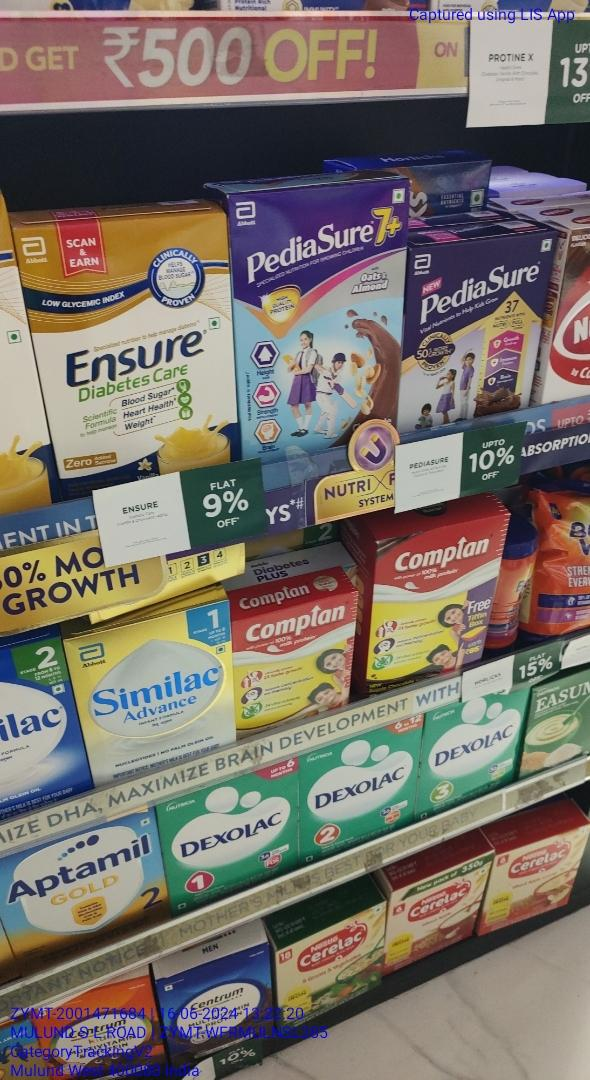COMPLAN_KESAR_BADAM_200_GMS_PACK: (234, 611, 354, 742)
PEDIASURE_7_PLUS_CHOCOLATE_400_G_PACK: (232, 186, 402, 456)
